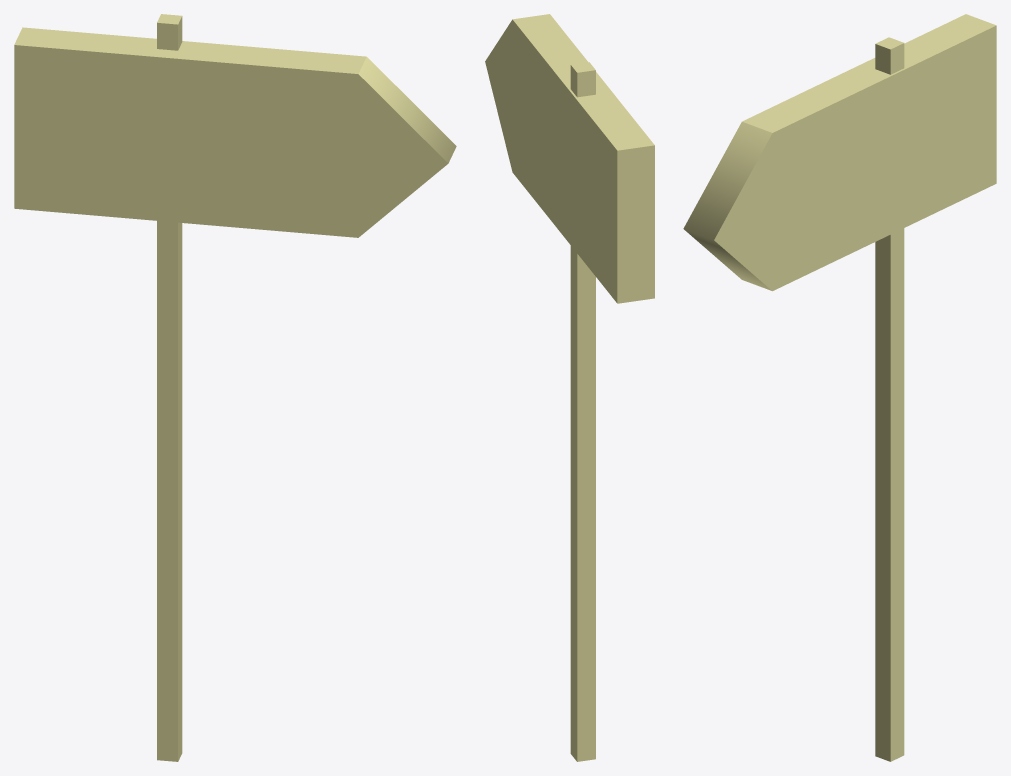
File: tabela.fbx
3 renders of one model, left to right at view 1: azimuth 30°, elevation 25°; view 2: azimuth 150°, elevation 25°; view 3: azimuth 270°, elevation 25°, orthographic. The views are drawn at different scales.
Parts seen in each view (by area): view 1: tabela; view 2: tabela; view 3: tabela.
Part boxes in pixels (bbox=[...]): tabela: bbox=[14, 14, 456, 761]; tabela: bbox=[485, 14, 654, 761]; tabela: bbox=[683, 14, 996, 761].
Size of the model in its own units: 1.99 by 4.5 by 1.79.
